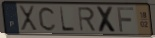C: (37, 6, 58, 33)
F: (116, 6, 136, 34)
L: (58, 6, 76, 33)
R: (76, 6, 98, 33)
X: (95, 6, 119, 35), (18, 5, 39, 33)
